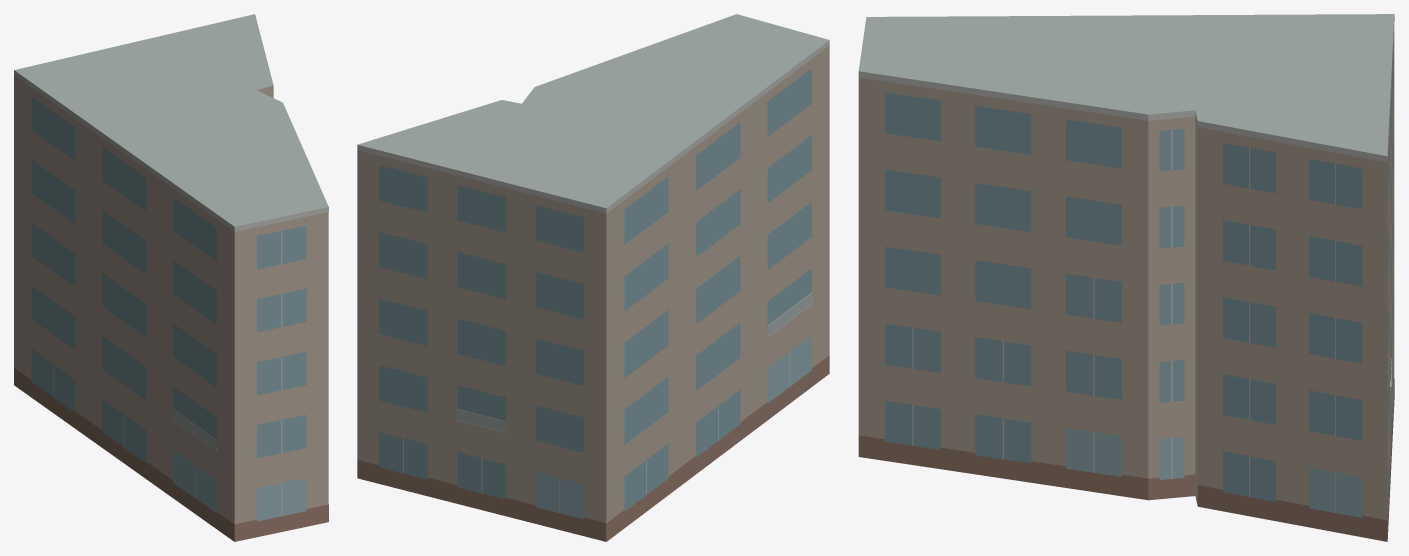
File: survey-upis-32943422.glb
3 renders of one model, left to right at view 1: azimuth 30°, elevation 25°; view 2: azimuth 150°, elevation 25°; view 3: azimuth 270°, elevation 25°, orthographic. The views are drawn at different scales.
Visible parts, largest first — view 1: survey-upis-32943422.tmp; view 2: survey-upis-32943422.tmp; view 3: survey-upis-32943422.tmp.
Boxes of the visible parts, box(x1,y1,x2,y2) form: survey-upis-32943422.tmp: box(14, 14, 328, 541); survey-upis-32943422.tmp: box(357, 14, 829, 541); survey-upis-32943422.tmp: box(858, 14, 1394, 541).
Bounding box in the file's own units: 12.08 × 15.25 × 19.21.
